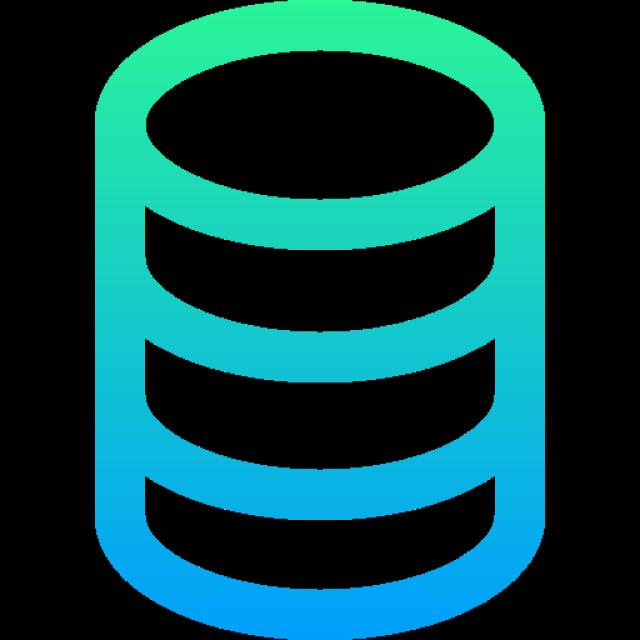Database: (50, 3, 640, 640)
